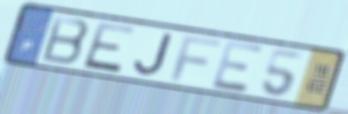5: (259, 46, 304, 99)
B: (39, 13, 93, 67)
E: (210, 38, 268, 95), (80, 20, 138, 75)
F: (168, 34, 223, 84)
J: (132, 32, 175, 78)
